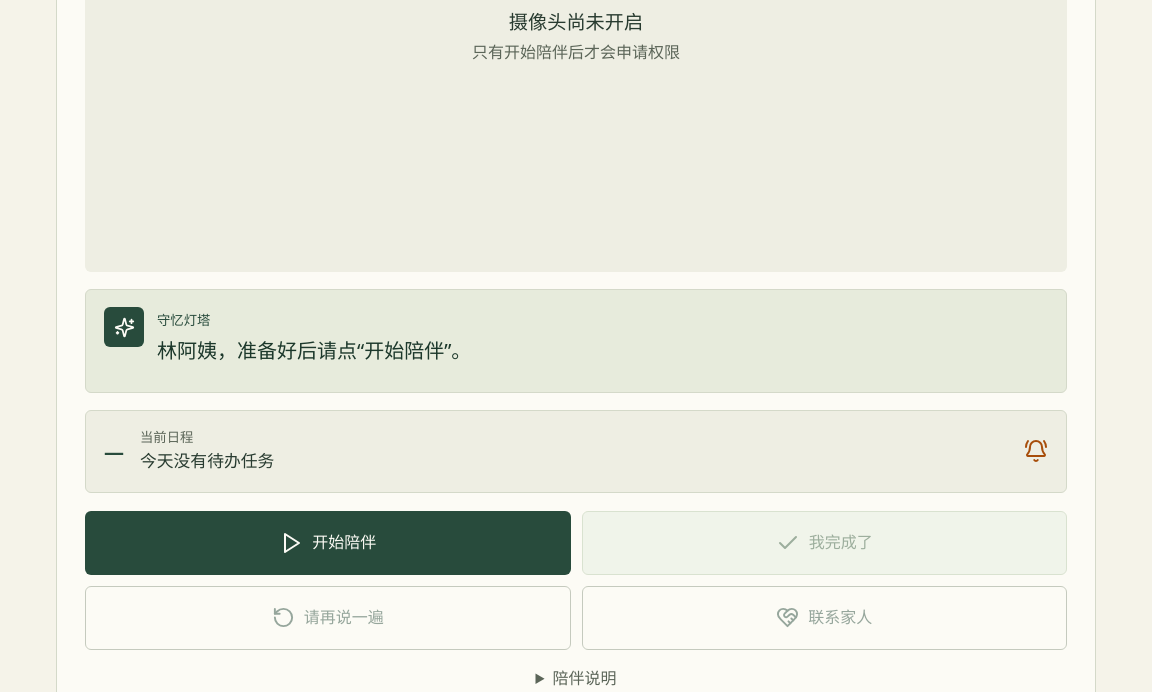
Test: server-backed companion routine interactions › does not complete the next occurrence when an earlier confirmation receipt arrives late
(page scrolled)
Click the button "开始陪伴" at [328, 543], box [85,511,570,575]
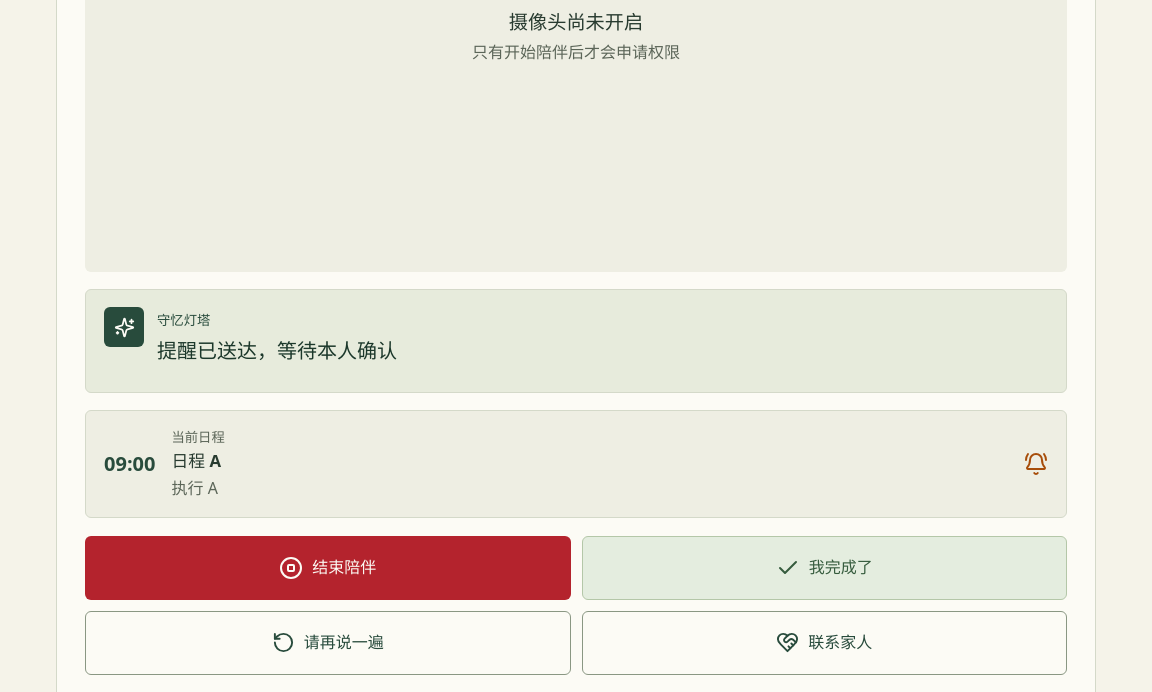
Expected: the button "我完成了" is enabled
Click the button "我完成了" at [824, 568], box [582,536,1067,600]
Wait 5000 ms
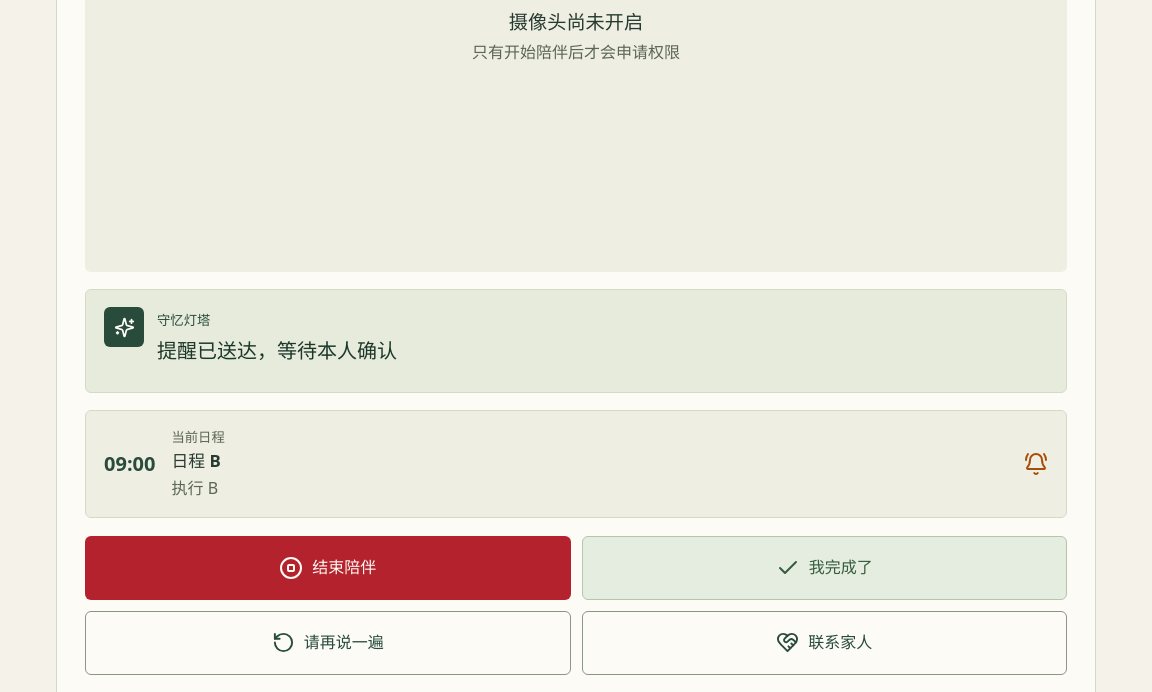
Expected: the button "我完成了" is enabled
Click the button "我完成了" at [824, 568], box [582,536,1067,600]
(page scrolled)
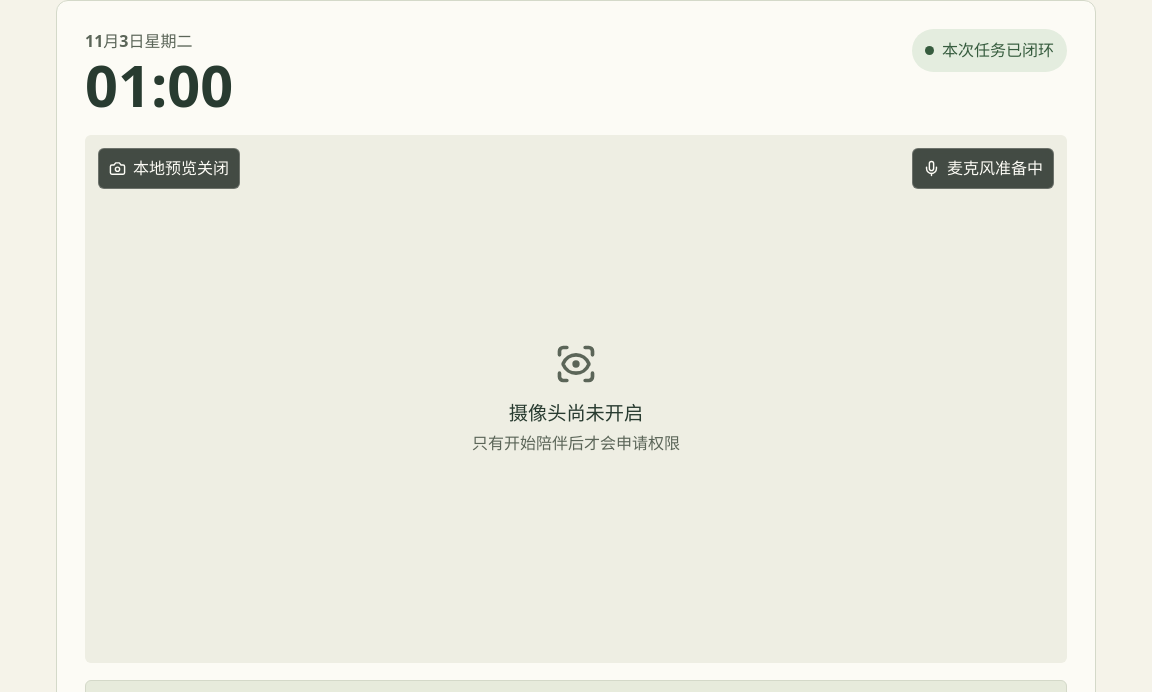
Expected: the element with class "agent-status" reads "本次任务已闭环", [942,39,1054,61]
